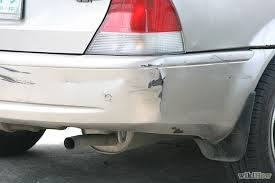Scratch: (137, 64, 171, 106), (1, 65, 36, 87), (170, 124, 184, 135)
